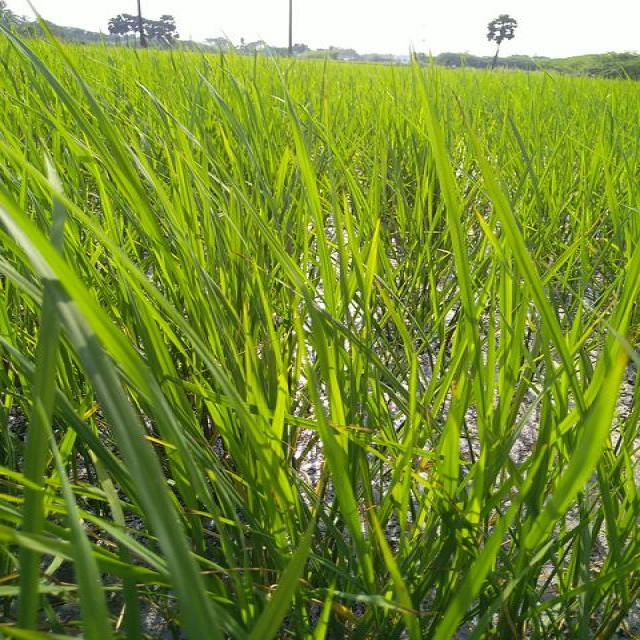Rice: (100, 389, 218, 640), (542, 318, 634, 534), (6, 226, 124, 388), (436, 501, 515, 640), (15, 385, 56, 640), (252, 507, 324, 640), (457, 309, 495, 501), (123, 281, 183, 390), (441, 132, 477, 310), (251, 277, 287, 434), (308, 126, 336, 304)
